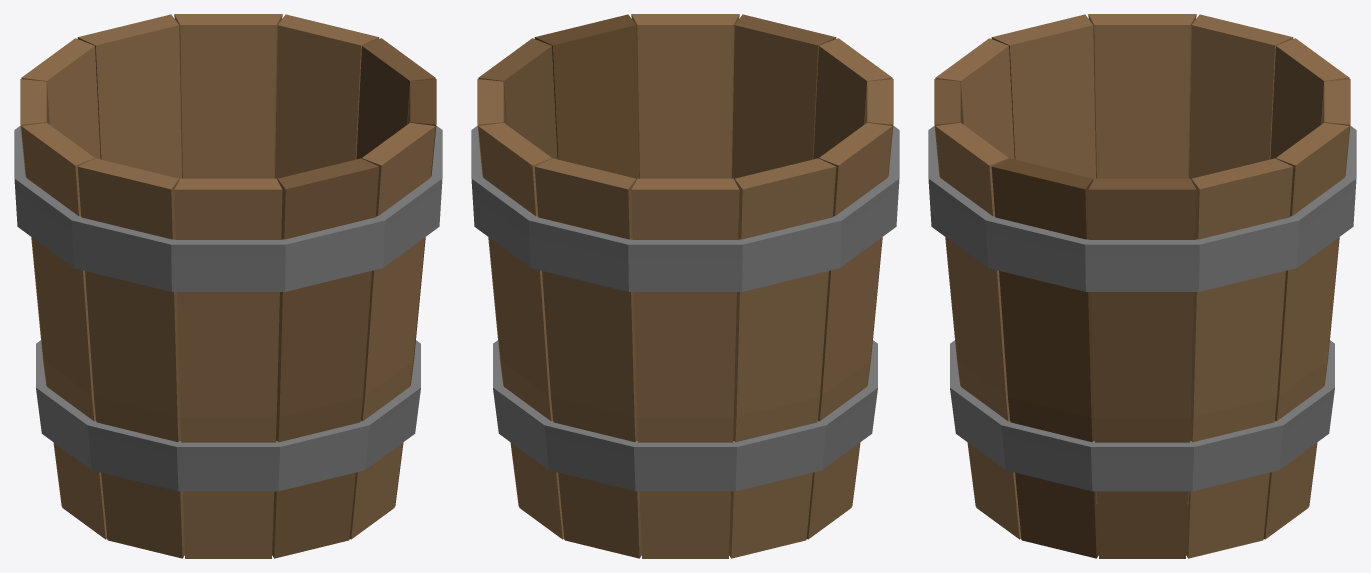
The model's file is Mesh_Props_Bucket_01.FBX.
3 views of the same model, side by side, from view 1: azimuth 30°, elevation 25°; view 2: azimuth 150°, elevation 25°; view 3: azimuth 270°, elevation 25° (orthographic).
Parts seen in each view (by area): view 1: Mesh_Props_Bucket_01; view 2: Mesh_Props_Bucket_01; view 3: Mesh_Props_Bucket_01.
Part boxes in pixels (x1,y1,x2,y2): Mesh_Props_Bucket_01: (14, 14, 442, 558); Mesh_Props_Bucket_01: (471, 14, 899, 558); Mesh_Props_Bucket_01: (928, 14, 1356, 558).
Size of what is drawn, in the model's own units: 43.37 by 43.37 by 43.22.
